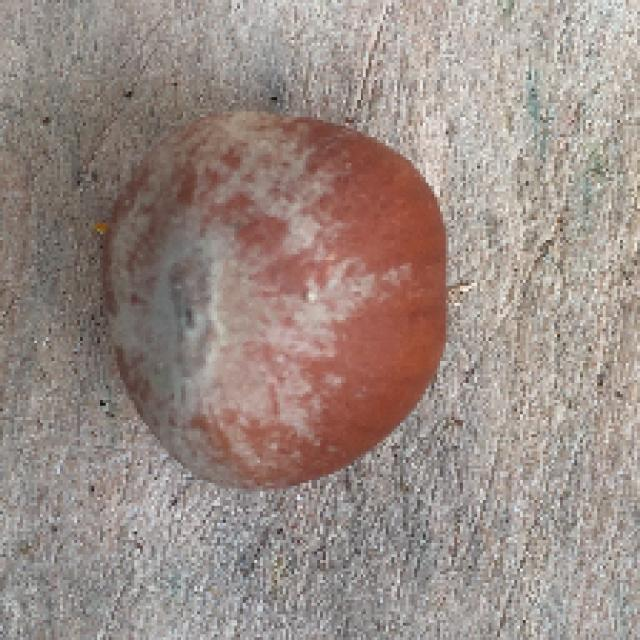QualityHazelnut: (99, 109, 448, 490)
